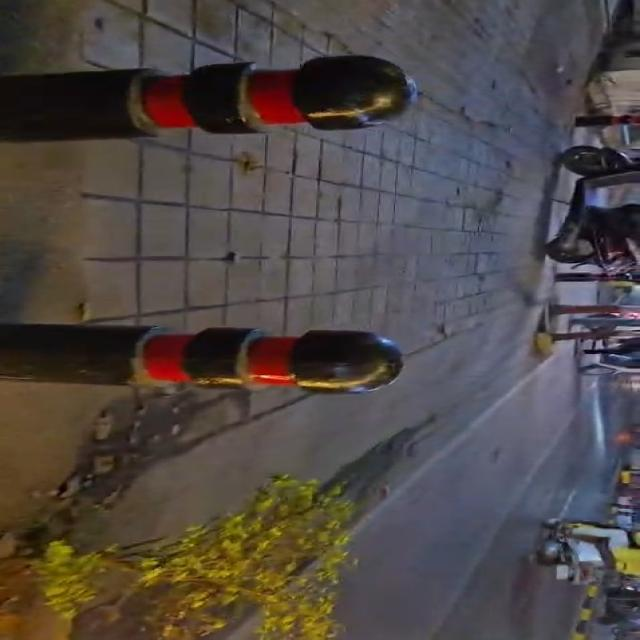bollard: (0, 56, 416, 141), (0, 324, 403, 393), (575, 114, 639, 127)
